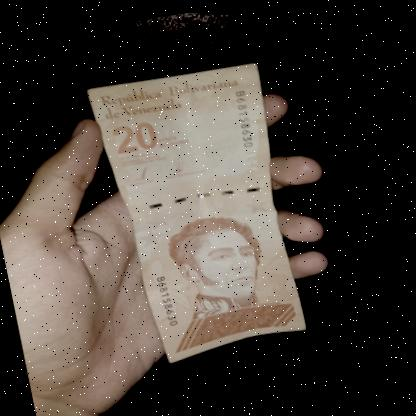twenty-front-vef: (83, 49, 315, 374)
